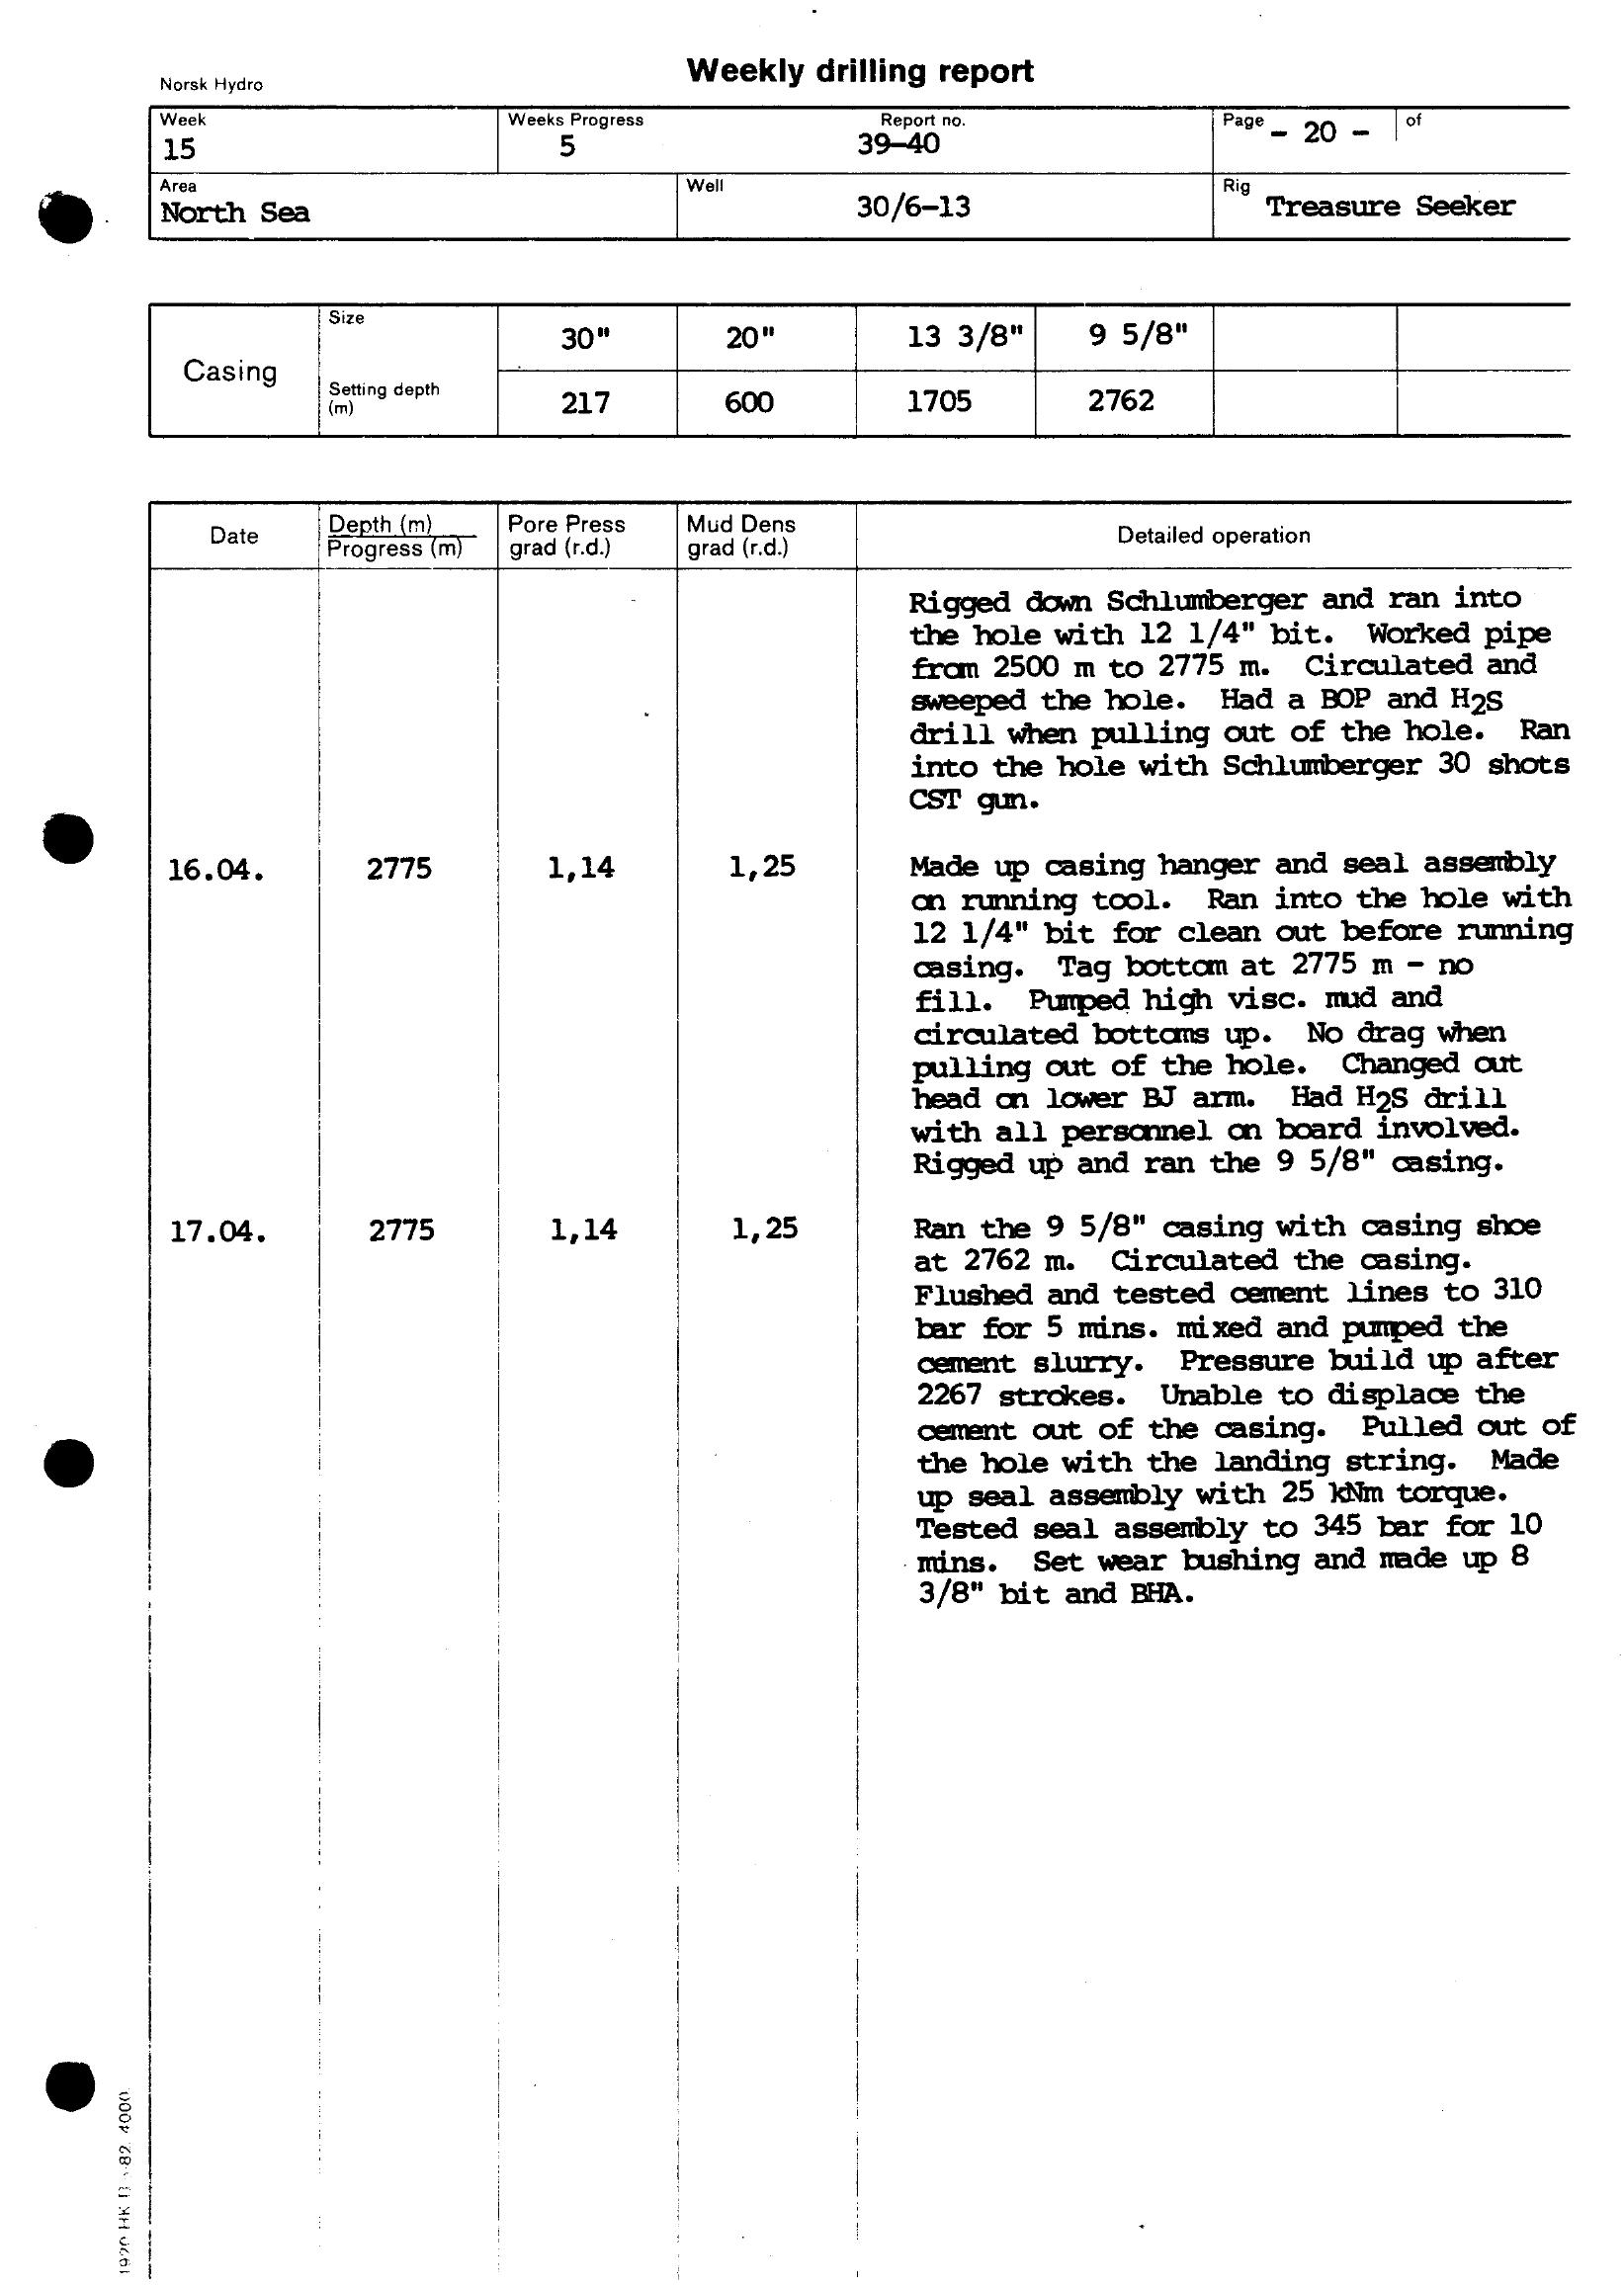graph: (132, 67, 1624, 1666)
text: (668, 35, 1055, 111)
